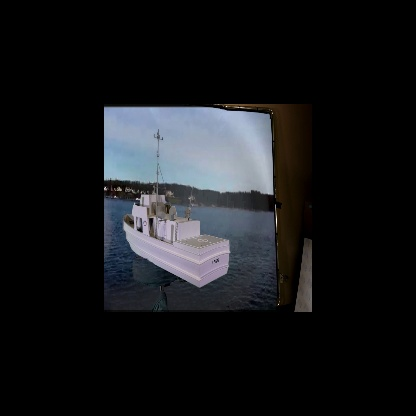YP689: (123, 128, 230, 288)
